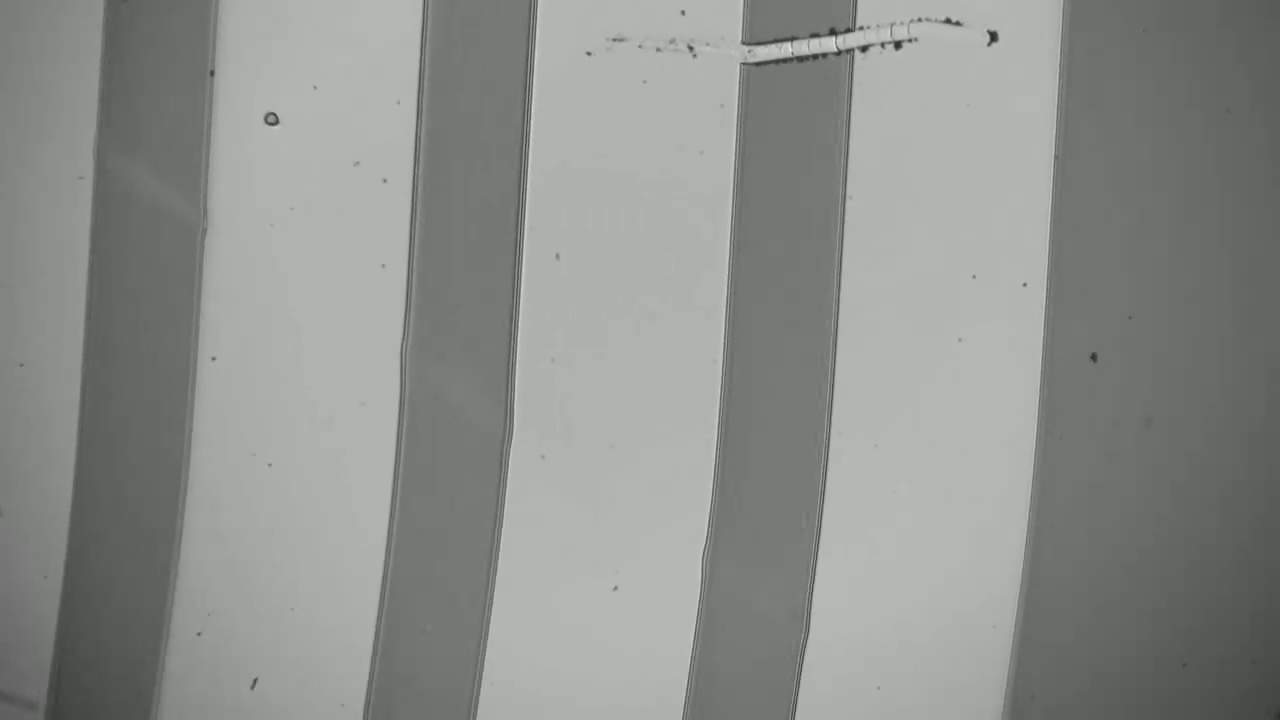Short_circuit: (694, 7, 886, 94)
